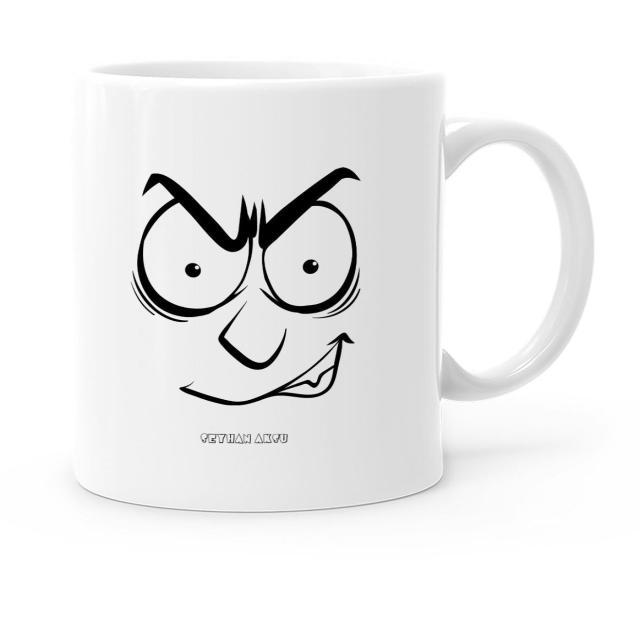Coffee Mug: (73, 62, 593, 510)
